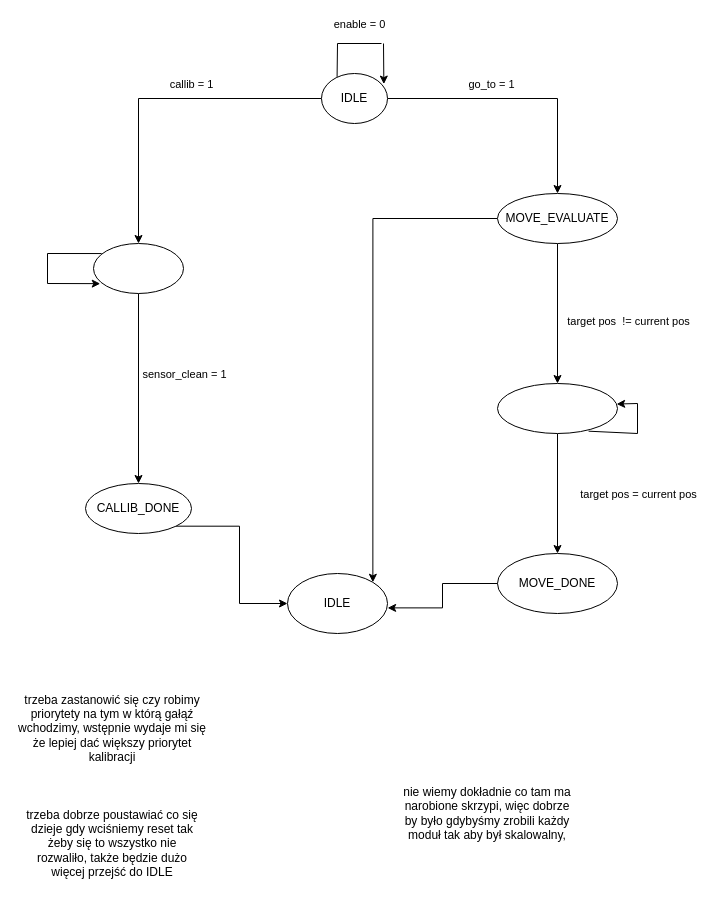
Some shapes in this 713 by 900 pixel diagram are drawn without their labels. Each missing label, with the centre of its shape:
CALLIB_FIND: [138,268]
MOVE_RUN: [557,408]
